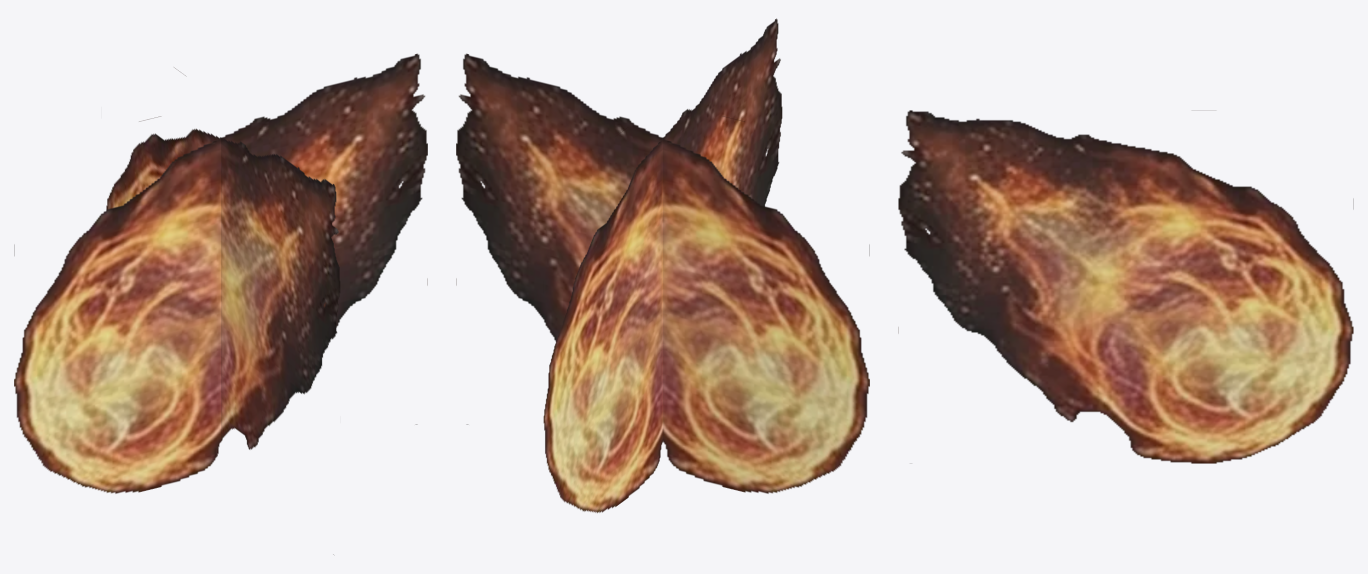
File: fireball.glb
3 views of the same model, side by side, from view 1: azimuth 30°, elevation 25°; view 2: azimuth 150°, elevation 25°; view 3: azimuth 270°, elevation 25° (orthographic). The views are drawn at different scales.
Visible parts, largest first — view 1: geometry_0; view 2: geometry_0; view 3: geometry_0.
Boxes of the visible parts, x1,y1,x2,y2 form: geometry_0: (14, 53, 427, 554); geometry_0: (456, 18, 869, 512); geometry_0: (898, 110, 1353, 463).
Size of the model in its own units: 1 by 0.8566 by 1.
Materials: 1 (1 with a texture image).
